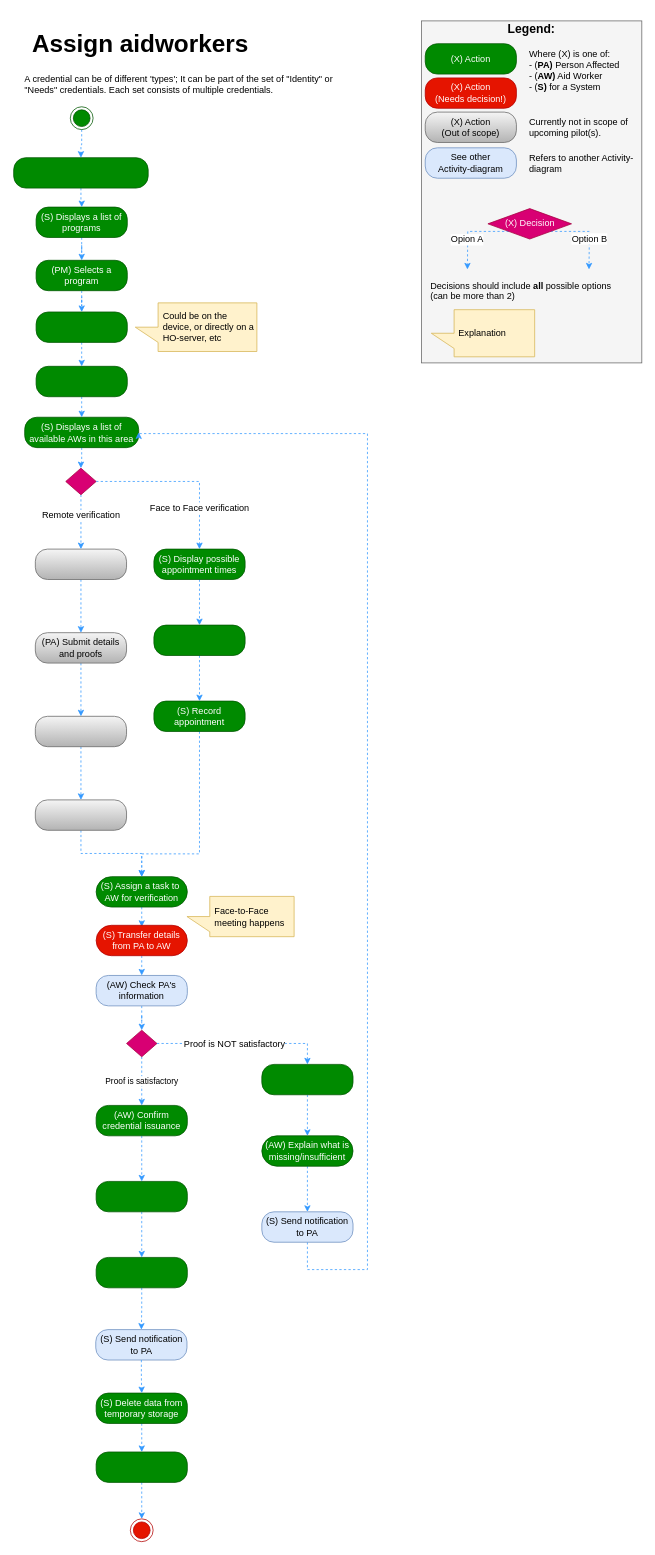
This 655x1555 diagram has some shape labels left out. Here are the shapes that lost their labels. From the top down, the centre of each, then its label:
(x=80, y=172): (PM) Browse to program management page
(x=81, y=326): (S) Displays program status page
(x=81, y=381): (PM) Selects "Assign AW option"
(x=81, y=564): (PA) Attach proofs
(x=199, y=640): (PA) Select appointment time
(x=81, y=731): (S) Store details and proofs temporarily
(x=81, y=814): (S) Show estimated waiting time
(x=307, y=1079): (AW) Postpone credential issuance
(x=141, y=1196): (S) Issue credentials
(x=141, y=1272): (S) Send credentials to PA
(x=141, y=1466): (S) Show "credential received"
